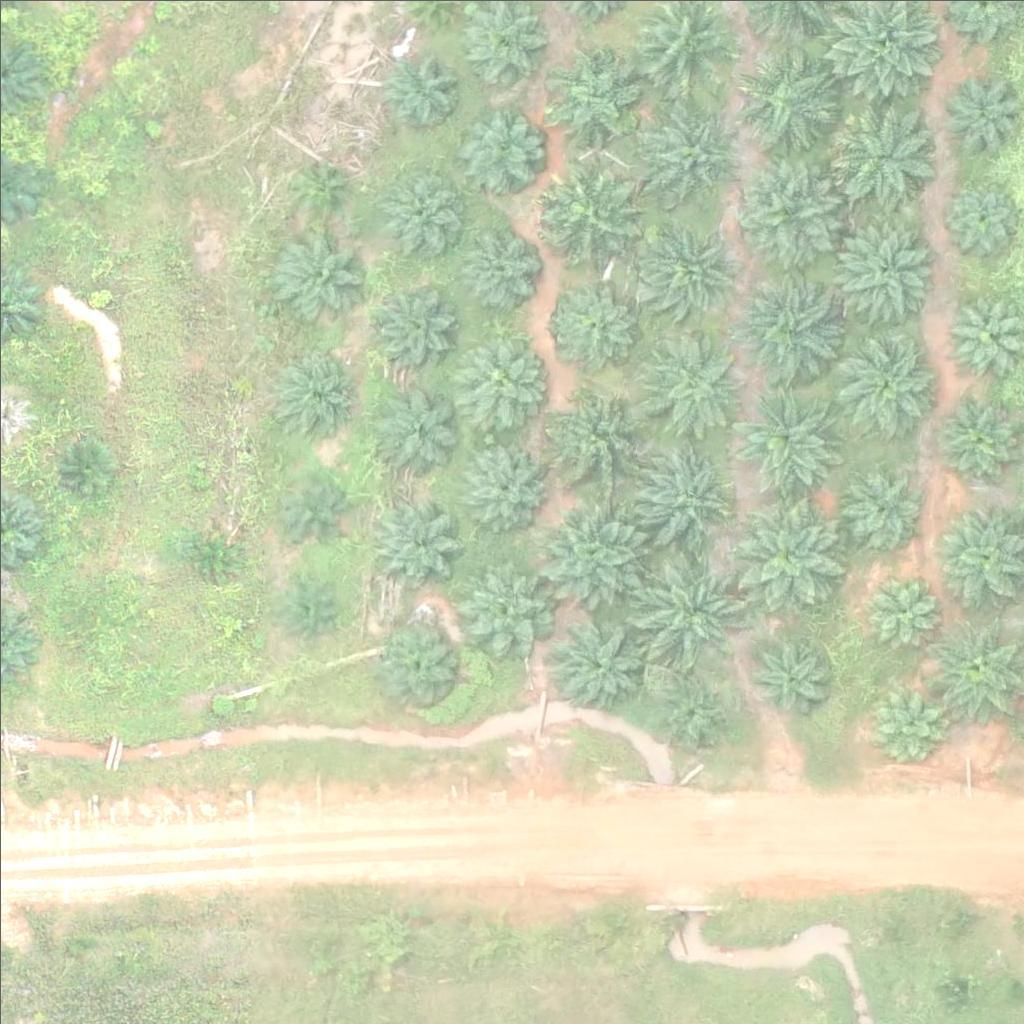Kelapa_Sawit: (618, 553, 743, 678), (728, 501, 841, 614), (723, 382, 836, 495), (729, 273, 842, 386), (730, 154, 842, 268), (827, 96, 939, 210), (628, 447, 728, 548), (638, 332, 738, 433), (638, 211, 738, 312), (540, 501, 640, 602), (548, 385, 648, 486), (534, 162, 634, 263), (539, 41, 639, 142), (832, 336, 932, 436), (829, 222, 929, 322), (635, 101, 735, 201), (739, 50, 839, 150), (454, 335, 542, 424), (551, 616, 639, 704), (550, 281, 638, 369), (454, 224, 542, 312), (455, 104, 543, 192), (271, 349, 359, 437), (745, 629, 832, 718), (857, 677, 944, 765), (934, 171, 1021, 259), (461, 562, 548, 650), (459, 437, 546, 525), (371, 495, 458, 583), (373, 382, 460, 470), (373, 280, 460, 368), (379, 162, 466, 250), (272, 230, 359, 318), (378, 628, 453, 704), (941, 398, 1016, 474), (946, 294, 1021, 370), (839, 465, 914, 541), (864, 573, 939, 648), (382, 50, 457, 125), (280, 475, 342, 538), (657, 678, 719, 741), (179, 522, 241, 584), (296, 157, 346, 208), (282, 578, 332, 628), (61, 439, 111, 489)
